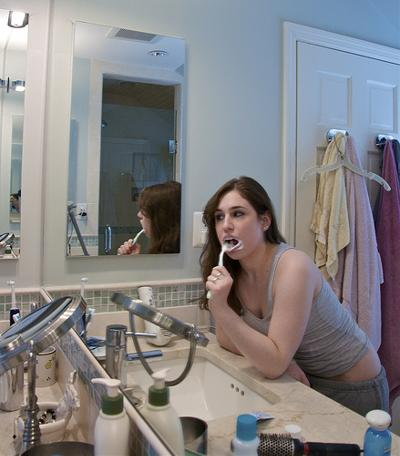person: (198, 177, 396, 425)
